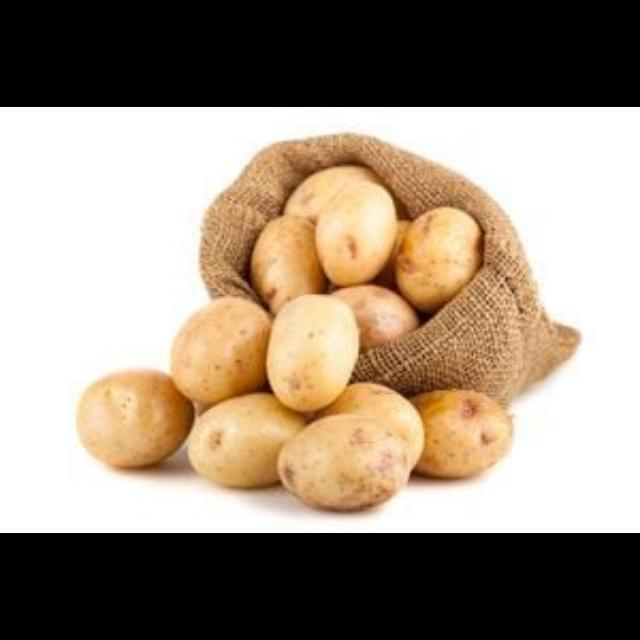Potato: (268, 414, 412, 514), (72, 366, 196, 470), (168, 296, 282, 409), (182, 396, 316, 490), (394, 388, 518, 482), (266, 294, 360, 412), (394, 205, 484, 312), (315, 182, 397, 288), (248, 215, 330, 311)
